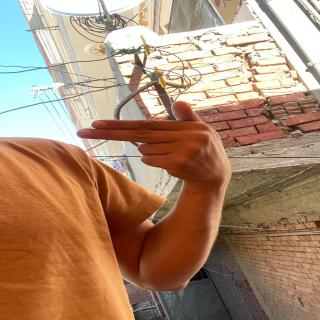GHAYN: (66, 96, 256, 185)
